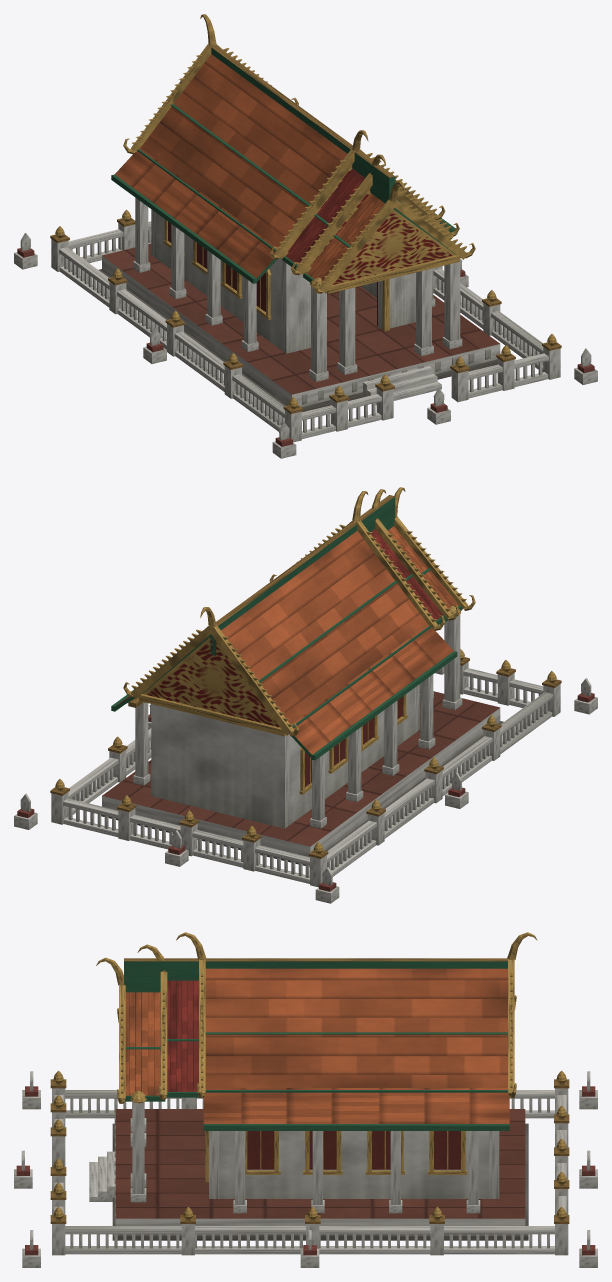
The model's file is Ubosot.fbx.
The picture shows the model from 3 angles, top to bottom: view 1: azimuth 30°, elevation 25°; view 2: azimuth 150°, elevation 25°; view 3: azimuth 270°, elevation 25°; orthographic projection. The views are drawn at different scales.
Visible parts, largest first — view 1: Ubosot_Roof, Ubosot_KaewWall, Ubosot_Base, Ubosot_Columns, Ubosot_Walls; view 2: Ubosot_Roof, Ubosot_KaewWall, Ubosot_Walls, Ubosot_Base, Ubosot_Columns; view 3: Ubosot_Roof, Ubosot_KaewWall, Ubosot_Base, Ubosot_Walls, Ubosot_Columns.
Part boxes in pixels (box(x1,y1,x2,y2)): Ubosot_Roof: box(111, 14, 475, 293); Ubosot_KaewWall: box(14, 209, 597, 458); Ubosot_Base: box(98, 243, 500, 412); Ubosot_Columns: box(133, 198, 462, 381); Ubosot_Walls: box(151, 209, 415, 353); Ubosot_Roof: box(111, 487, 475, 760); Ubosot_KaewWall: box(14, 649, 597, 903); Ubosot_Walls: box(151, 684, 419, 828); Ubosot_Base: box(101, 691, 503, 866); Ubosot_Columns: box(128, 605, 462, 828); Ubosot_Roof: box(96, 932, 537, 1130); Ubosot_KaewWall: box(14, 1070, 597, 1267); Ubosot_Base: box(89, 1109, 528, 1240); Ubosot_Walls: box(205, 1131, 499, 1198); Ubosot_Columns: box(130, 1091, 480, 1213).
Bounding box in the file's own units: 1383 × 977 × 2049.
1 material, 1 textured.
